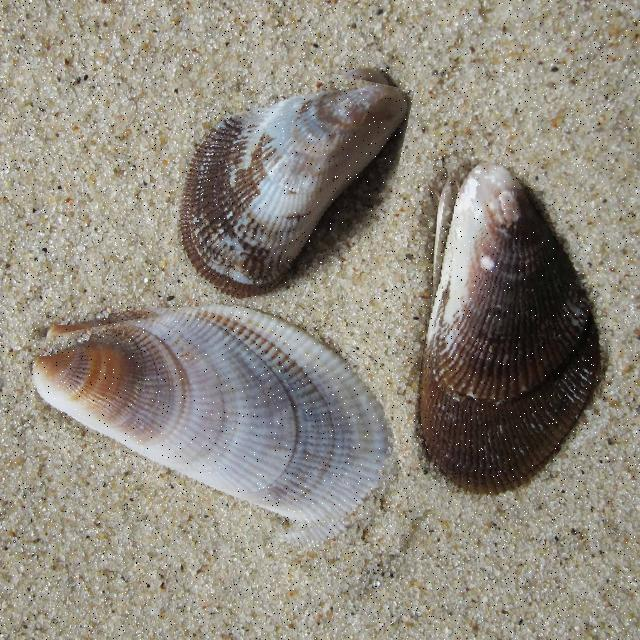Mytilaster_lineatus: (34, 291, 399, 561), (415, 162, 618, 511), (176, 58, 403, 309)
